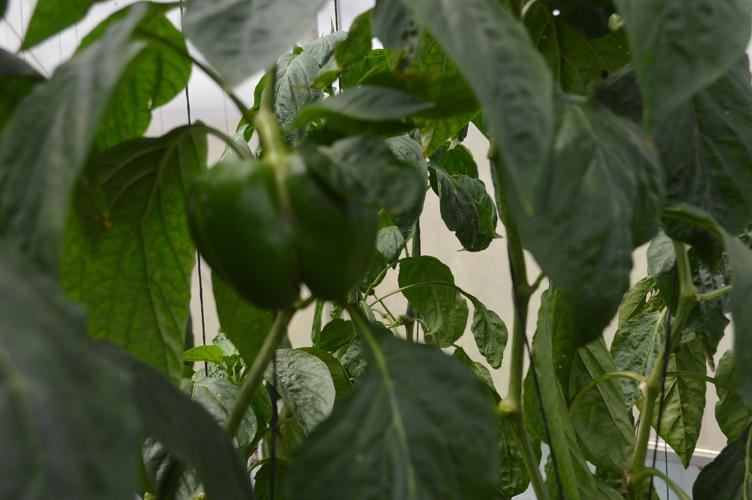BellPepper: (182, 154, 376, 304)
